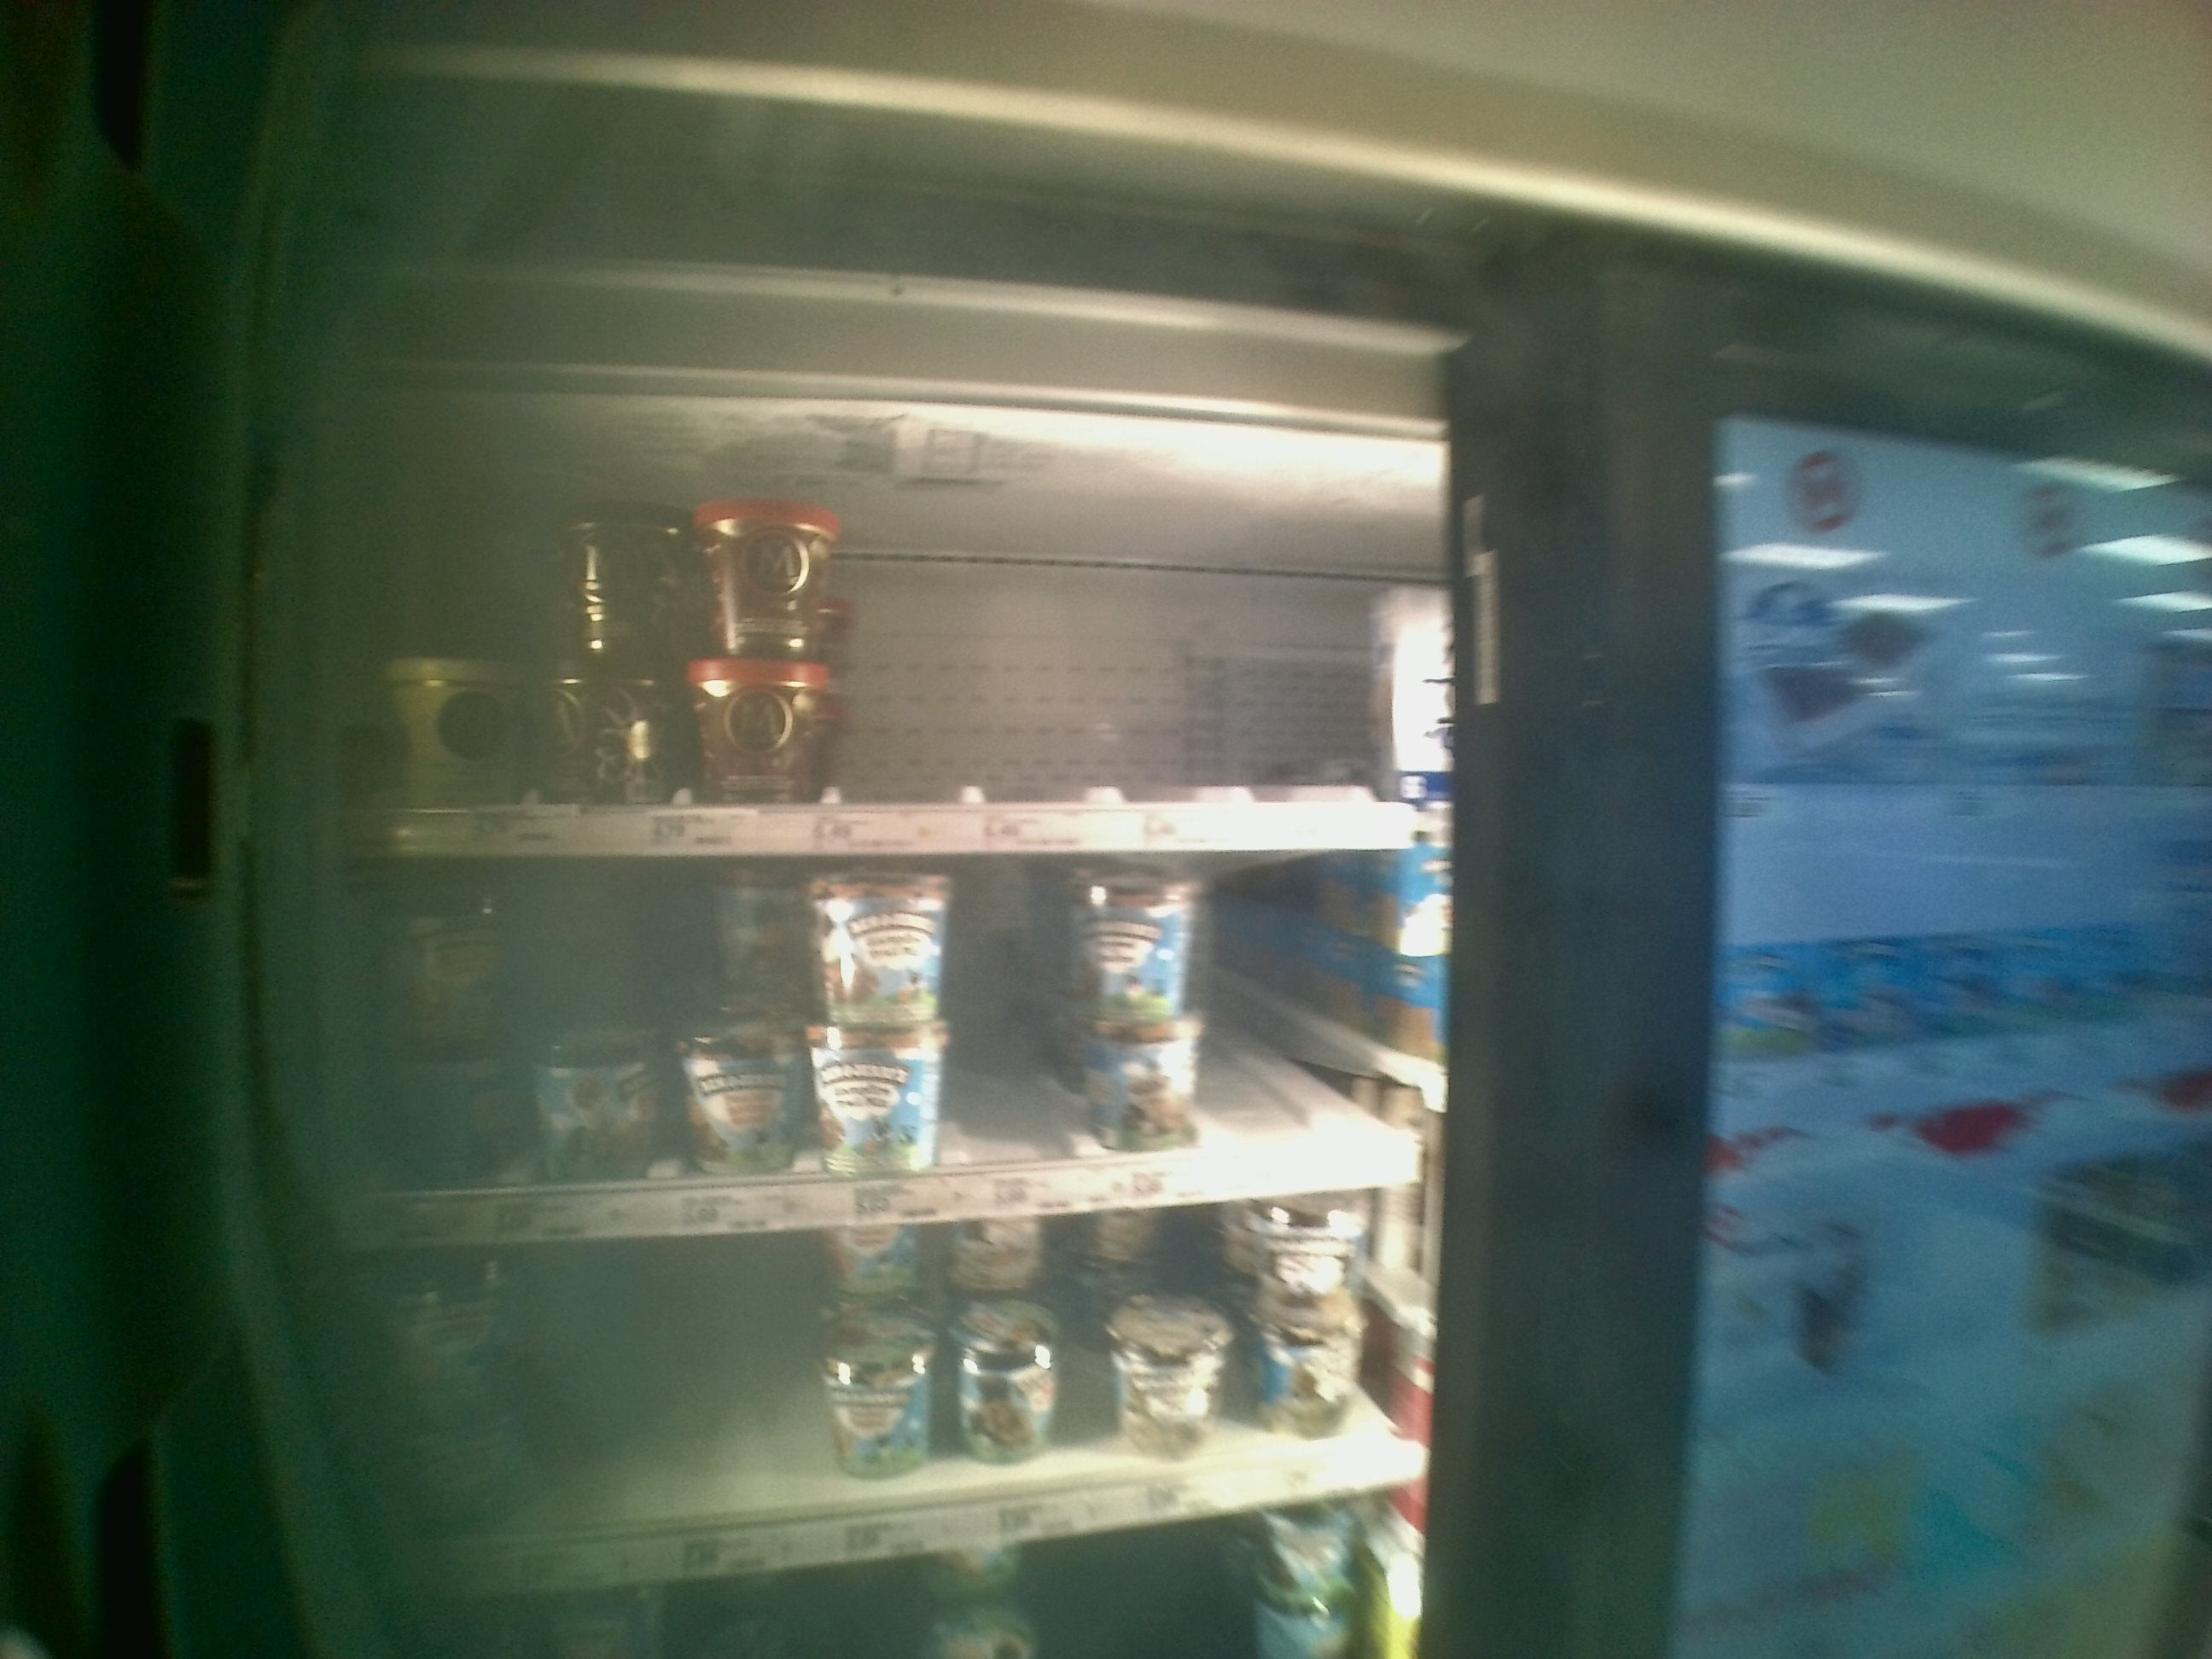shelf: (357, 420, 1413, 849), (347, 871, 1372, 1249)
